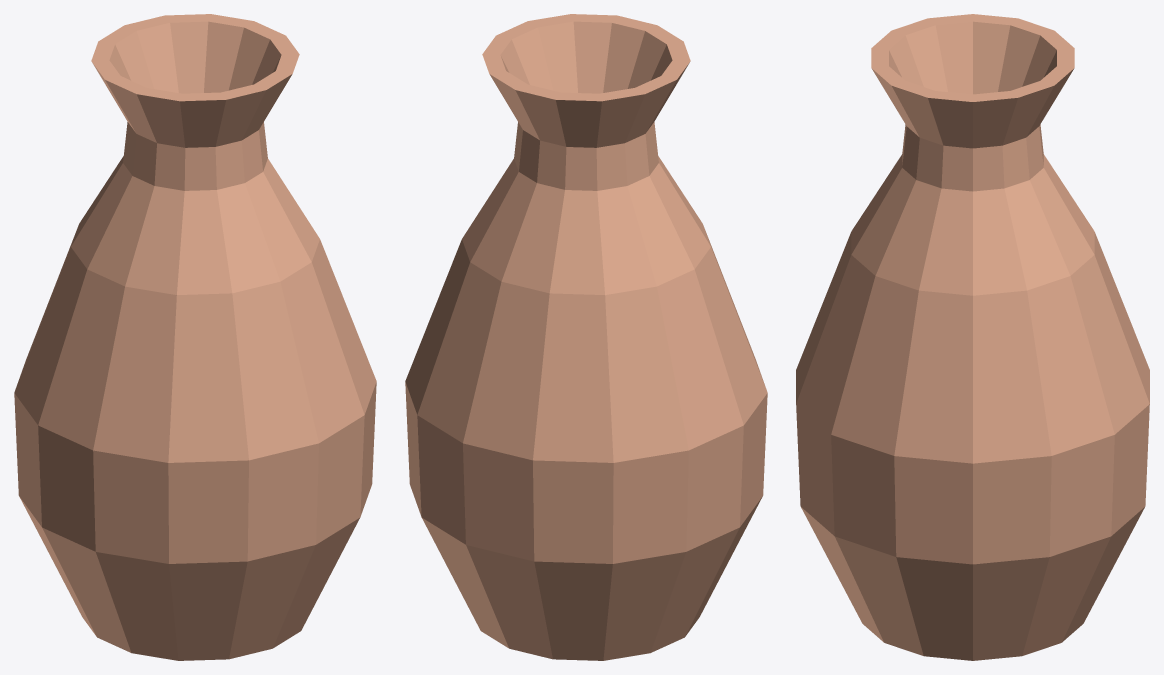
File: sample-vase.glb
3 views of the same model, side by side, from view 1: azimuth 30°, elevation 25°; view 2: azimuth 150°, elevation 25°; view 3: azimuth 270°, elevation 25° (orthographic).
Size of the model in its own units: 192 by 324 by 187.
